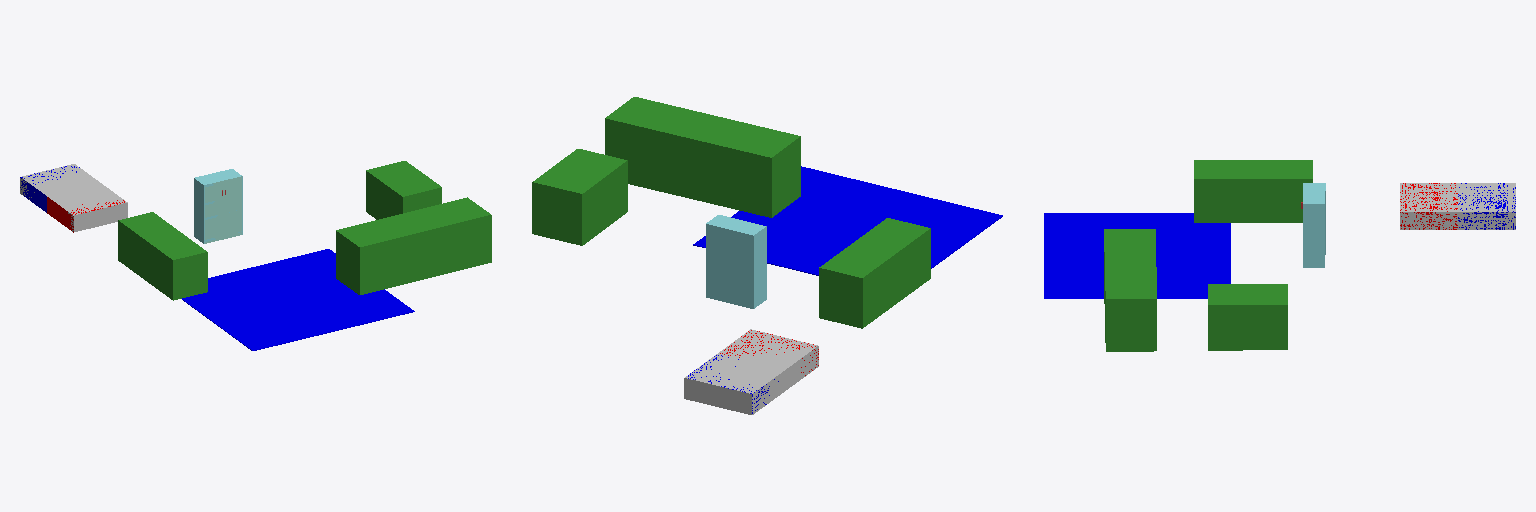
URDF robot description (iai-kitchen):
<?xml version="1.0" ?>
<robot name="iai-kitchen" version="1.0">
  <material name="table_grey">
    <color rgba="0.255 0.62 0.223 1.0"/>
  </material>
  <material name="color_grey">
    <color rgba="0.8 0.8 0.8 1.0"/>
  </material>
  <material name="color_red">
    <color rgba="1.0 0.0 0.0 1.0"/>
  </material>
  <material name="color_blue">
    <color rgba="0.0 0.0 1.0 1.0"/>
  </material>
  <material name="round_table_grey">
    <color rgba="0.8 0.8 0.8 1.0"/>
  </material>
  <material name="wall_red">
    <color rgba="0.75 0.22 0.17 1.0"/>
  </material>
  <material name="shelf_blue">
    <color rgba="0.59 0.88 0.9 1.0"/>
  </material>
  <material name="shelf_door_green">
    <color rgba="0.64 0.87 0.82 1.0"/>
  </material>
  <material name="shelf_openable_handle_red">
    <color rgba="0.74 0.25 0.25 1.0"/>
  </material>
  <material name="door_green">
    <color rgba="0.0 0.31 0.22 1.0"/>
  </material>
  <material name="hinge_red">
    <color rgba="0.74 0.25 0.25 1.0"/>
  </material>
  <material name="handle_blue">
    <color rgba="0.3 0.5 0.78 1.0"/>
  </material>
  <material name="bucket_grey">
    <color rgba="0.8 0.8 0.8 1.0"/>
  </material>
  <material name="white">
    <color rgba="1.0 1.0 1.0 1.0"/>
  </material>
  <material name="orange">
    <color rgba="1.0 0.7 0.0 1.0"/>
  </material>
  <material name="handle_white">
    <color rgba="1.0 1.0 1.0 1.0"/>
  </material>
  <material name="bottom_white">
    <color rgba="1.0 1.0 1.0 1.0"/>
  </material>
  <material name="frame_wood">
    <color rgba="0.68 0.63 0.47 1.0"/>
  </material>
  <material name="handle_grey">
    <color rgba="0.7 0.7 0.7 1.0"/>
  </material>
  <link name="table_kitchen_counter:table:table_center">
    <visual>
      <origin xyz="0.0 0.0 -0.425" rpy="0.0 0.0 0.0"/>
      <geometry>
        <box size="0.76 2.45 0.85"/>
      </geometry>
      <material name="table_grey"/>
    </visual>
    <collision>
      <origin xyz="0.0 0.0 -0.425" rpy="0.0 0.0 0.0"/>
      <geometry>
        <box size="0.76 2.45 0.85"/>
      </geometry>
    </collision>
  </link>
  <link name="table_kitchen_counter:table:table_origin"/>
  <link name="table_kitchen_counter:table:table_front_edge_center"/>
  <joint name="table_kitchen_counter:table:table_origin_joint" type="fixed">
    <origin xyz="3.08 0.8 0.0" rpy="0.0 0.0 -1.56"/>
    <parent link="urdf_offset"/>
    <child link="table_kitchen_counter:table:table_origin"/>
  </joint>
  <joint name="table_kitchen_counter:table:center_joint" type="fixed">
    <origin xyz="0.38 1.225 0.85" rpy="0.0 0.0 0.0"/>
    <parent link="table_kitchen_counter:table:table_origin"/>
    <child link="table_kitchen_counter:table:table_center"/>
  </joint>
  <joint name="table_kitchen_counter:table:table_front_edge_center_joint" type="fixed">
    <origin xyz="0.0 1.225 0.85" rpy="0.0 0.0 0.0"/>
    <parent link="table_kitchen_counter:table:table_origin"/>
    <child link="table_kitchen_counter:table:table_front_edge_center"/>
  </joint>
  <link name="long_table:table:table_center">
    <visual>
      <origin xyz="0.0 0.0 -0.3675" rpy="0.0 0.0 0.0"/>
      <geometry>
        <box size="0.734 1.176 0.735"/>
      </geometry>
      <material name="table_grey"/>
    </visual>
    <collision>
      <origin xyz="0.0 0.0 -0.3675" rpy="0.0 0.0 0.0"/>
      <geometry>
        <box size="0.734 1.176 0.735"/>
      </geometry>
    </collision>
  </link>
  <link name="long_table:table:table_origin"/>
  <link name="long_table:table:table_front_edge_center"/>
  <joint name="long_table:table:table_origin_joint" type="fixed">
    <origin xyz="5.49 2.75 0.0" rpy="0.0 0.0 3.15"/>
    <parent link="urdf_offset"/>
    <child link="long_table:table:table_origin"/>
  </joint>
  <joint name="long_table:table:center_joint" type="fixed">
    <origin xyz="0.367 0.588 0.735" rpy="0.0 0.0 0.0"/>
    <parent link="long_table:table:table_origin"/>
    <child link="long_table:table:table_center"/>
  </joint>
  <joint name="long_table:table:table_front_edge_center_joint" type="fixed">
    <origin xyz="0.0 0.588 0.735" rpy="0.0 0.0 0.0"/>
    <parent link="long_table:table:table_origin"/>
    <child link="long_table:table:table_front_edge_center"/>
  </joint>
  <link name="popcorn_table:table:table_center">
    <visual>
      <origin xyz="0.0 0.0 -0.357" rpy="0.0 0.0 0.0"/>
      <geometry>
        <box size="0.64 1.75 0.714"/>
      </geometry>
      <material name="table_grey"/>
    </visual>
    <collision>
      <origin xyz="0.0 0.0 -0.357" rpy="0.0 0.0 0.0"/>
      <geometry>
        <box size="0.64 1.75 0.714"/>
      </geometry>
    </collision>
  </link>
  <link name="popcorn_table:table:table_origin"/>
  <link name="popcorn_table:table:table_front_edge_center"/>
  <joint name="popcorn_table:table:table_origin_joint" type="fixed">
    <origin xyz="0.4 1.37 0.0" rpy="0.0 0.0 0.0"/>
    <parent link="urdf_offset"/>
    <child link="popcorn_table:table:table_origin"/>
  </joint>
  <joint name="popcorn_table:table:center_joint" type="fixed">
    <origin xyz="0.32 0.875 0.714" rpy="0.0 0.0 0.0"/>
    <parent link="popcorn_table:table:table_origin"/>
    <child link="popcorn_table:table:table_center"/>
  </joint>
  <joint name="popcorn_table:table:table_front_edge_center_joint" type="fixed">
    <origin xyz="0.0 0.875 0.714" rpy="0.0 0.0 0.0"/>
    <parent link="popcorn_table:table:table_origin"/>
    <child link="popcorn_table:table:table_front_edge_center"/>
  </joint>
  <link name="suturo_couch:couch:place1">
    <visual>
      <origin xyz="0.0 0.0 0.15" rpy="0.0 0.0 0.0"/>
      <geometry>
        <box size="1.0 1.7 0.3"/>
      </geometry>
      <material name="color_grey"/>
    </visual>
    <collision>
      <origin xyz="0.0 0.0 0.0" rpy="0.0 0.0 0.0"/>
      <geometry>
        <box size="1.0 1.7 0.3"/>
      </geometry>
    </collision>
  </link>
  <link name="suturo_couch:couch:place2">
    <visual>
      <origin xyz="0.0 -0.425 0.15" rpy="0.0 0.0 0.0"/>
      <geometry>
        <box size="1.0 0.85 0.3"/>
      </geometry>
      <material name="color_red"/>
    </visual>
    <collision>
      <origin xyz="0.0 0.0 0.0" rpy="0.0 0.0 0.0"/>
      <geometry>
        <box size="1.0 1.7 0.3"/>
      </geometry>
    </collision>
  </link>
  <link name="suturo_couch:couch:place3">
    <visual>
      <origin xyz="0.0 0.425 0.15" rpy="0.0 0.0 0.0"/>
      <geometry>
        <box size="1.0 0.85 0.3"/>
      </geometry>
      <material name="color_blue"/>
    </visual>
    <collision>
      <origin xyz="0.0 0.0 -0.15" rpy="0.0 0.0 0.0"/>
      <geometry>
        <box size="1.0 1.7 0.3"/>
      </geometry>
    </collision>
  </link>
  <joint name="suturo_couch:couch:couch_origin_joint" type="fixed">
    <origin xyz="0.81 5.25 0.0" rpy="0.0 0.0 0.0"/>
    <parent link="urdf_offset"/>
    <child link="suturo_couch:couch:place1"/>
  </joint>
  <joint name="suturo_couch:couch:couch_left_joint" type="fixed">
    <origin xyz="0.0 0.0 0.0" rpy="0.0 0.0 0.0"/>
    <parent link="suturo_couch:couch:place1"/>
    <child link="suturo_couch:couch:place2"/>
  </joint>
  <joint name="suturo_couch:couch:couch_right_joint" type="fixed">
    <origin xyz="0.0 0.0 0.0" rpy="0.0 0.0 0.0"/>
    <parent link="suturo_couch:couch:place1"/>
    <child link="suturo_couch:couch:place3"/>
  </joint>
  <link name="shelf:shelf:shelf_origin"/>
  <link name="shelf:shelf:shelf_center"/>
  <link name="shelf:shelf:shelf_base_center"/>
  <joint name="shelf:shelf:shelf_origin_joint" type="fixed">
    <origin xyz="2.61 2.97 0.0" rpy="0.0 0.0 1.56"/>
    <parent link="urdf_offset"/>
    <child link="shelf:shelf:shelf_origin"/>
  </joint>
  <joint name="shelf:shelf:shelf_center_joint" type="fixed">
    <origin xyz="0.16 0.355 0.52" rpy="0.0 0.0 0.0"/>
    <parent link="shelf:shelf:shelf_origin"/>
    <child link="shelf:shelf:shelf_center"/>
  </joint>
  <joint name="shelf:shelf:shelf_base_center_joint" type="fixed">
    <origin xyz="0.16 0.355 0.0" rpy="0.0 0.0 0.0"/>
    <parent link="shelf:shelf:shelf_origin"/>
    <child link="shelf:shelf:shelf_base_center"/>
  </joint>
  <link name="shelf:shelf:shelf_back">
    <visual>
      <origin xyz="0.0 0.0 0.0" rpy="0.0 0.0 0.0"/>
      <geometry>
        <box size="0.015 0.71 1.04"/>
      </geometry>
      <material name="shelf_blue"/>
    </visual>
    <collision>
      <origin xyz="0.0 0.0 0.0" rpy="0.0 0.0 0.0"/>
      <geometry>
        <box size="0.015 0.71 1.04"/>
      </geometry>
    </collision>
  </link>
  <joint name="shelf:shelf:shelf_back:joint" type="fixed">
    <origin xyz="0.32 0.355 0.52" rpy="0.0 0.0 0.0"/>
    <parent link="shelf:shelf:shelf_origin"/>
    <child link="shelf:shelf:shelf_back"/>
  </joint>
  <link name="shelf:shelf:shelf_right_side">
    <visual>
      <origin xyz="0.0 0.0 0.0" rpy="0.0 0.0 0.0"/>
      <geometry>
        <box size="0.32 0.015 1.04"/>
      </geometry>
      <material name="shelf_blue"/>
    </visual>
    <collision>
      <origin xyz="0.0 0.0 0.0" rpy="0.0 0.0 0.0"/>
      <geometry>
        <box size="0.32 0.015 1.04"/>
      </geometry>
    </collision>
  </link>
  <joint name="shelf:shelf:shelf_right_side:joint" type="fixed">
    <origin xyz="0.16 0.0075 0.52" rpy="0.0 0.0 0.0"/>
    <parent link="shelf:shelf:shelf_origin"/>
    <child link="shelf:shelf:shelf_right_side"/>
  </joint>
  <link name="shelf:shelf:shelf_left_side">
    <visual>
      <origin xyz="0.0 0.0 0.0" rpy="0.0 0.0 0.0"/>
      <geometry>
        <box size="0.32 0.015 1.04"/>
      </geometry>
      <material name="shelf_blue"/>
    </visual>
    <collision>
      <origin xyz="0.0 0.0 0.0" rpy="0.0 0.0 0.0"/>
      <geometry>
        <box size="0.32 0.015 1.04"/>
      </geometry>
    </collision>
  </link>
  <joint name="shelf:shelf:shelf_left_side:joint" type="fixed">
    <origin xyz="0.16 0.7025 0.52" rpy="0.0 0.0 0.0"/>
    <parent link="shelf:shelf:shelf_origin"/>
    <child link="shelf:shelf:shelf_left_side"/>
  </joint>
  <link name="shelf:shelf:shelf_floor_0">
    <visual>
      <origin xyz="0.0 0.0 -0.02" rpy="0.0 0.0 0.0"/>
      <geometry>
        <box size="0.32 0.71 0.04"/>
      </geometry>
      <material name="shelf_blue"/>
    </visual>
    <collision>
      <origin xyz="0.0 0.0 -0.02" rpy="0.0 0.0 0.0"/>
      <geometry>
        <box size="0.32 0.71 0.04"/>
      </geometry>
    </collision>
  </link>
  <joint name="shelf:shelf:shelf_floor_0:joint" type="fixed">
    <origin xyz="0.0 0.0 0.07" rpy="0.0 0.0 0.0"/>
    <parent link="shelf:shelf:shelf_base_center"/>
    <child link="shelf:shelf:shelf_floor_0"/>
  </joint>
  <link name="shelf:shelf:shelf_floor_1">
    <visual>
      <origin xyz="0.0 0.0 -0.02" rpy="0.0 0.0 0.0"/>
      <geometry>
        <box size="0.32 0.71 0.04"/>
      </geometry>
      <material name="shelf_blue"/>
    </visual>
    <collision>
      <origin xyz="0.0 0.0 -0.02" rpy="0.0 0.0 0.0"/>
      <geometry>
        <box size="0.32 0.71 0.04"/>
      </geometry>
    </collision>
  </link>
  <joint name="shelf:shelf:shelf_floor_1:joint" type="fixed">
    <origin xyz="0.0 0.0 0.46" rpy="0.0 0.0 0.0"/>
    <parent link="shelf:shelf:shelf_base_center"/>
    <child link="shelf:shelf:shelf_floor_1"/>
  </joint>
  <link name="shelf:shelf:shelf_floor_2">
    <visual>
      <origin xyz="0.0 0.0 -0.02" rpy="0.0 0.0 0.0"/>
      <geometry>
        <box size="0.32 0.71 0.04"/>
      </geometry>
      <material name="shelf_blue"/>
    </visual>
    <collision>
      <origin xyz="0.0 0.0 -0.02" rpy="0.0 0.0 0.0"/>
      <geometry>
        <box size="0.32 0.71 0.04"/>
      </geometry>
    </collision>
  </link>
  <joint name="shelf:shelf:shelf_floor_2:joint" type="fixed">
    <origin xyz="0.0 0.0 0.72" rpy="0.0 0.0 0.0"/>
    <parent link="shelf:shelf:shelf_base_center"/>
    <child link="shelf:shelf:shelf_floor_2"/>
  </joint>
  <link name="shelf:shelf:shelf_floor_3">
    <visual>
      <origin xyz="0.0 0.0 -0.02" rpy="0.0 0.0 0.0"/>
      <geometry>
        <box size="0.32 0.71 0.04"/>
      </geometry>
      <material name="shelf_blue"/>
    </visual>
    <collision>
      <origin xyz="0.0 0.0 -0.02" rpy="0.0 0.0 0.0"/>
      <geometry>
        <box size="0.32 0.71 0.04"/>
      </geometry>
    </collision>
  </link>
  <joint name="shelf:shelf:shelf_floor_3:joint" type="fixed">
    <origin xyz="0.0 0.0 1.04" rpy="0.0 0.0 0.0"/>
    <parent link="shelf:shelf:shelf_base_center"/>
    <child link="shelf:shelf:shelf_floor_3"/>
  </joint>
  <link name="shelf:shelf:shelf_door_right">
    <visual>
      <origin xyz="0.0 0.16249999999999998 0.0" rpy="0.0 0.0 0.0"/>
      <geometry>
        <box size="0.015 0.33999999999999997 1.04"/>
      </geometry>
      <material name="shelf_door_green"/>
    </visual>
    <collision>
      <origin xyz="0.0 0.16249999999999998 0.0" rpy="0.0 0.0 0.0"/>
      <geometry>
        <box size="0.015 0.33999999999999997 1.04"/>
      </geometry>
    </collision>
  </link>
  <link name="shelf:shelf:shelf_door_right:handle">
    <visual>
      <origin xyz="0.0 0.0 0.0" rpy="0.0 0.0 0.0"/>
      <geometry>
        <box size="0.02 0.01 0.084"/>
      </geometry>
      <material name="shelf_openable_handle_red"/>
    </visual>
    <collision>
      <origin xyz="0.0 0.0 0.0" rpy="0.0 0.0 0.0"/>
      <geometry>
        <box size="0.02 0.01 0.084"/>
      </geometry>
    </collision>
  </link>
  <joint name="shelf:shelf:shelf_door_right:handle_joint" type="fixed">
    <origin xyz="-0.025 0.305 0.317" rpy="0.0 0.0 0.0"/>
    <axis xyz="0.0 0.0 1.0"/>
    <parent link="shelf:shelf:shelf_door_right"/>
    <child link="shelf:shelf:shelf_door_right:handle"/>
  </joint>
  <joint name="shelf:shelf:shelf_door_right:joint" type="revolute">
    <origin xyz="-0.1525 0.015 0.0" rpy="0.0 0.0 0.0"/>
    <axis xyz="0.0 0.0 1.0"/>
    <parent link="shelf:shelf:shelf_right_side"/>
    <child link="shelf:shelf:shelf_door_right"/>
    <limit effort="30.0" lower="0.0" upper="1.7" velocity="1.0"/>
  </joint>
  <link name="shelf:shelf:shelf_door_left">
    <visual>
      <origin xyz="0.0 -0.16249999999999998 0.0" rpy="0.0 0.0 0.0"/>
      <geometry>
        <box size="0.015 0.33999999999999997 1.04"/>
      </geometry>
      <material name="shelf_door_green"/>
    </visual>
    <collision>
      <origin xyz="0.0 -0.16249999999999998 0.0" rpy="0.0 0.0 0.0"/>
      <geometry>
        <box size="0.015 0.33999999999999997 1.04"/>
      </geometry>
    </collision>
  </link>
  <link name="shelf:shelf:shelf_door_left:handle">
    <visual>
      <origin xyz="0.0 0.0 0.0" rpy="0.0 0.0 0.0"/>
      <geometry>
        <box size="0.02 0.01 0.084"/>
      </geometry>
      <material name="shelf_openable_handle_red"/>
    </visual>
    <collision>
      <origin xyz="0.0 0.0 0.0" rpy="0.0 0.0 0.0"/>
      <geometry>
        <box size="0.02 0.01 0.084"/>
      </geometry>
    </collision>
  </link>
  <joint name="shelf:shelf:shelf_door_left:handle_joint" type="fixed">
    <origin xyz="-0.025 -0.305 0.317" rpy="0.0 0.0 0.0"/>
    <axis xyz="0.0 0.0 1.0"/>
    <parent link="shelf:shelf:shelf_door_left"/>
    <child link="shelf:shelf:shelf_door_left:handle"/>
  </joint>
  <joint name="shelf:shelf:shelf_door_left:joint" type="revolute">
    <origin xyz="-0.1525 -0.015 0.0" rpy="0.0 0.0 0.0"/>
    <axis xyz="0.0 0.0 1.0"/>
    <parent link="shelf:shelf:shelf_left_side"/>
    <child link="shelf:shelf:shelf_door_left"/>
    <limit effort="30.0" lower="-1.7" upper="0.0" velocity="1.0"/>
  </joint>
  <joint name="world_iai_kitchen:kitchen:room_joint" type="fixed">
    <origin xyz="2.1 0.54 -0.05" rpy="0.0 0.0 0.0"/>
    <parent link="urdf_offset"/>
    <child link="iai_kitchen:kitchen:room_center_link"/>
  </joint>
  <link name="iai_kitchen:kitchen:room_center_link">
    <visual>
      <geometry>
        <box size="3.0 2.75 0.01"/>
      </geometry>
      <material name="iai_kitchen:kitchen:color">
        <color rgba="0.0 0.0 1.0 0.5"/>
      </material>
    </visual>
    <collision>
      <geometry>
        <box size="3.0 2.75 0.01"/>
      </geometry>
    </collision>
  </link>
  <joint name="room_kitchen_entry_exit:entry_exit:connection_joint" type="fixed">
    <origin xyz="-1.4000000000000001 -0.45000000000000007 0.0" rpy="0.0 0.0 0.0"/>
    <parent link="iai_kitchen:kitchen:room_center_link"/>
    <child link="kitchen_entry_exit:entry_exit:link"/>
  </joint>
  <link name="kitchen_entry_exit:entry_exit:link"/>
  <joint name="world_arena:arena:room_joint" type="fixed">
    <origin xyz="2.1 0.54 -0.05" rpy="0.0 0.0 0.0"/>
    <parent link="urdf_offset"/>
    <child link="arena:arena:room_center_link"/>
  </joint>
  <link name="arena:arena:room_center_link">
    <visual>
      <geometry>
        <box size="3.0 2.75 0.01"/>
      </geometry>
      <material name="arena:arena:color">
        <color rgba="1.0 0.0 0.0 0.1"/>
      </material>
    </visual>
    <collision>
      <geometry>
        <box size="3.0 2.75 0.01"/>
      </geometry>
    </collision>
  </link>
  <joint name="room_arena_entry_exit:entry_exit:connection_joint" type="fixed">
    <origin xyz="-1.4000000000000001 -0.45000000000000007 0.0" rpy="0.0 0.0 0.0"/>
    <parent link="arena:arena:room_center_link"/>
    <child link="arena_entry_exit:entry_exit:link"/>
  </joint>
  <link name="arena_entry_exit:entry_exit:link"/>
  <link name="urdf_main"/>
  <joint name="map_urdf_joint" type="fixed">
    <origin xyz="0.0 0.0 0.0" rpy="0.0 0.0 0.0"/>
    <parent link="urdf_main"/>
    <child link="urdf_offset"/>
  </joint>
  <link name="urdf_offset"/>
</robot>

--- What the picture shows (computed from the rendered views, not written in the file) ---
Views: 3 orthographic renders of the robot side by side, from view 1: azimuth 30°, elevation 25°; view 2: azimuth 150°, elevation 25°; view 3: azimuth 270°, elevation 25°.
Model iai-kitchen with 32 links and 31 joints (2 revolute, 29 fixed), rooted at urdf_main, posed all joints at 0.
Visible links, largest first — view 1: iai_kitchen:kitchen:room_center_link, table_kitchen_counter:table:table_center, popcorn_table:table:table_center, suturo_couch:couch:place1, long_table:table:table_center, shelf:shelf:shelf_door_right, shelf:shelf:shelf_door_left, shelf:shelf:shelf_left_side; view 2: table_kitchen_counter:table:table_center, iai_kitchen:kitchen:room_center_link, popcorn_table:table:table_center, long_table:table:table_center, suturo_couch:couch:place1, shelf:shelf:shelf_back, shelf:shelf:shelf_left_side, shelf:shelf:shelf_floor_3; view 3: iai_kitchen:kitchen:room_center_link, popcorn_table:table:table_center, table_kitchen_counter:table:table_center, long_table:table:table_center, suturo_couch:couch:place1, shelf:shelf:shelf_right_side, suturo_couch:couch:place2, suturo_couch:couch:place3.
Link boxes in pixels (x1,y1,x2,y2): iai_kitchen:kitchen:room_center_link: (182, 249, 414, 350); table_kitchen_counter:table:table_center: (336, 197, 491, 294); popcorn_table:table:table_center: (118, 212, 207, 300); suturo_couch:couch:place1: (20, 164, 127, 231); long_table:table:table_center: (366, 161, 441, 219); shelf:shelf:shelf_door_right: (223, 176, 241, 239); shelf:shelf:shelf_door_left: (205, 181, 222, 243); shelf:shelf:shelf_left_side: (194, 179, 204, 243); table_kitchen_counter:table:table_center: (605, 97, 800, 217); iai_kitchen:kitchen:room_center_link: (693, 166, 1002, 275); popcorn_table:table:table_center: (819, 218, 930, 328); long_table:table:table_center: (532, 149, 627, 245); suturo_couch:couch:place1: (684, 329, 818, 414); shelf:shelf:shelf_back: (706, 224, 753, 308); shelf:shelf:shelf_left_side: (754, 226, 766, 308); shelf:shelf:shelf_floor_3: (707, 215, 766, 237); iai_kitchen:kitchen:room_center_link: (1044, 213, 1230, 298); popcorn_table:table:table_center: (1194, 160, 1312, 222); table_kitchen_counter:table:table_center: (1104, 229, 1156, 351); long_table:table:table_center: (1208, 284, 1287, 350); suturo_couch:couch:place1: (1400, 183, 1515, 229); shelf:shelf:shelf_right_side: (1303, 203, 1324, 267); suturo_couch:couch:place2: (1400, 183, 1457, 229); suturo_couch:couch:place3: (1458, 183, 1515, 229).
Bounding box of the posed robot: 5.23 × 6.93 × 1.09 m (x, y, z).
Geometry: primitives only (box / cylinder / sphere), no mesh files.